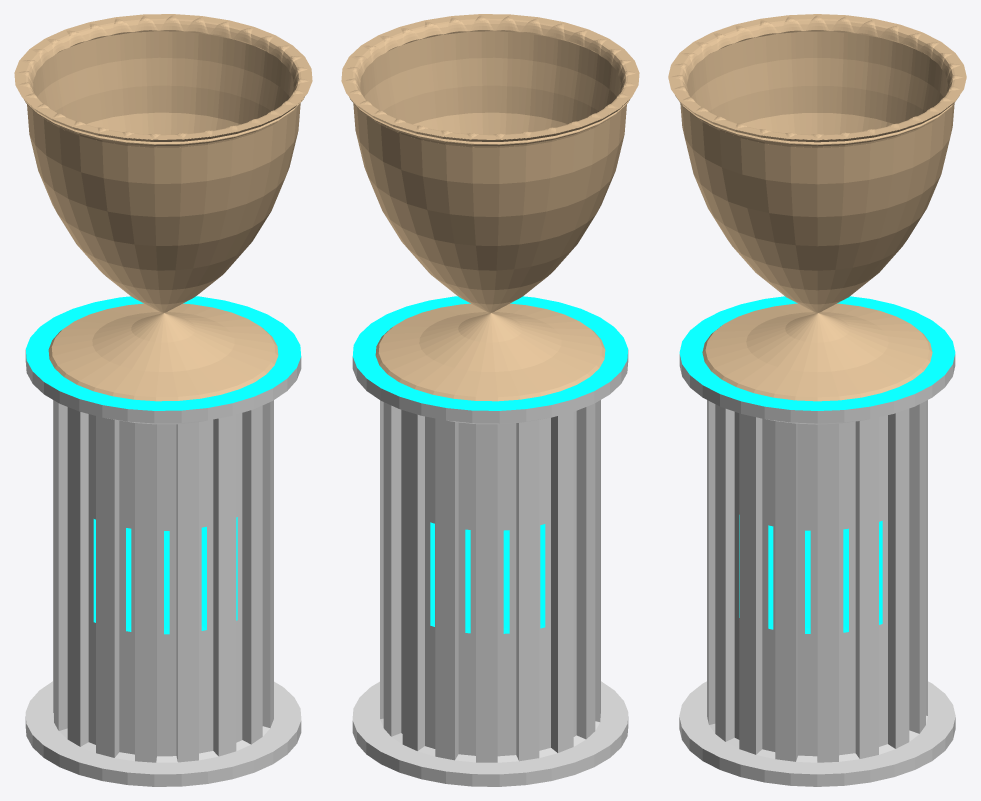
File: trphee.fbx
3 views of the same model, side by side, from view 1: azimuth 30°, elevation 25°; view 2: azimuth 150°, elevation 25°; view 3: azimuth 270°, elevation 25° (orthographic).
Parts seen in each view (by area): view 1: Cylinder.001, Cylinder; view 2: Cylinder.001, Cylinder; view 3: Cylinder.001, Cylinder.
Boxes of the visible parts, x1,y1,x2,y2 form: Cylinder.001: (25, 296, 301, 786); Cylinder: (14, 14, 312, 401); Cylinder.001: (352, 296, 628, 786); Cylinder: (341, 14, 639, 401); Cylinder.001: (679, 296, 955, 786); Cylinder: (668, 14, 966, 401).
Size of the model in its own units: 216 by 521 by 216.
